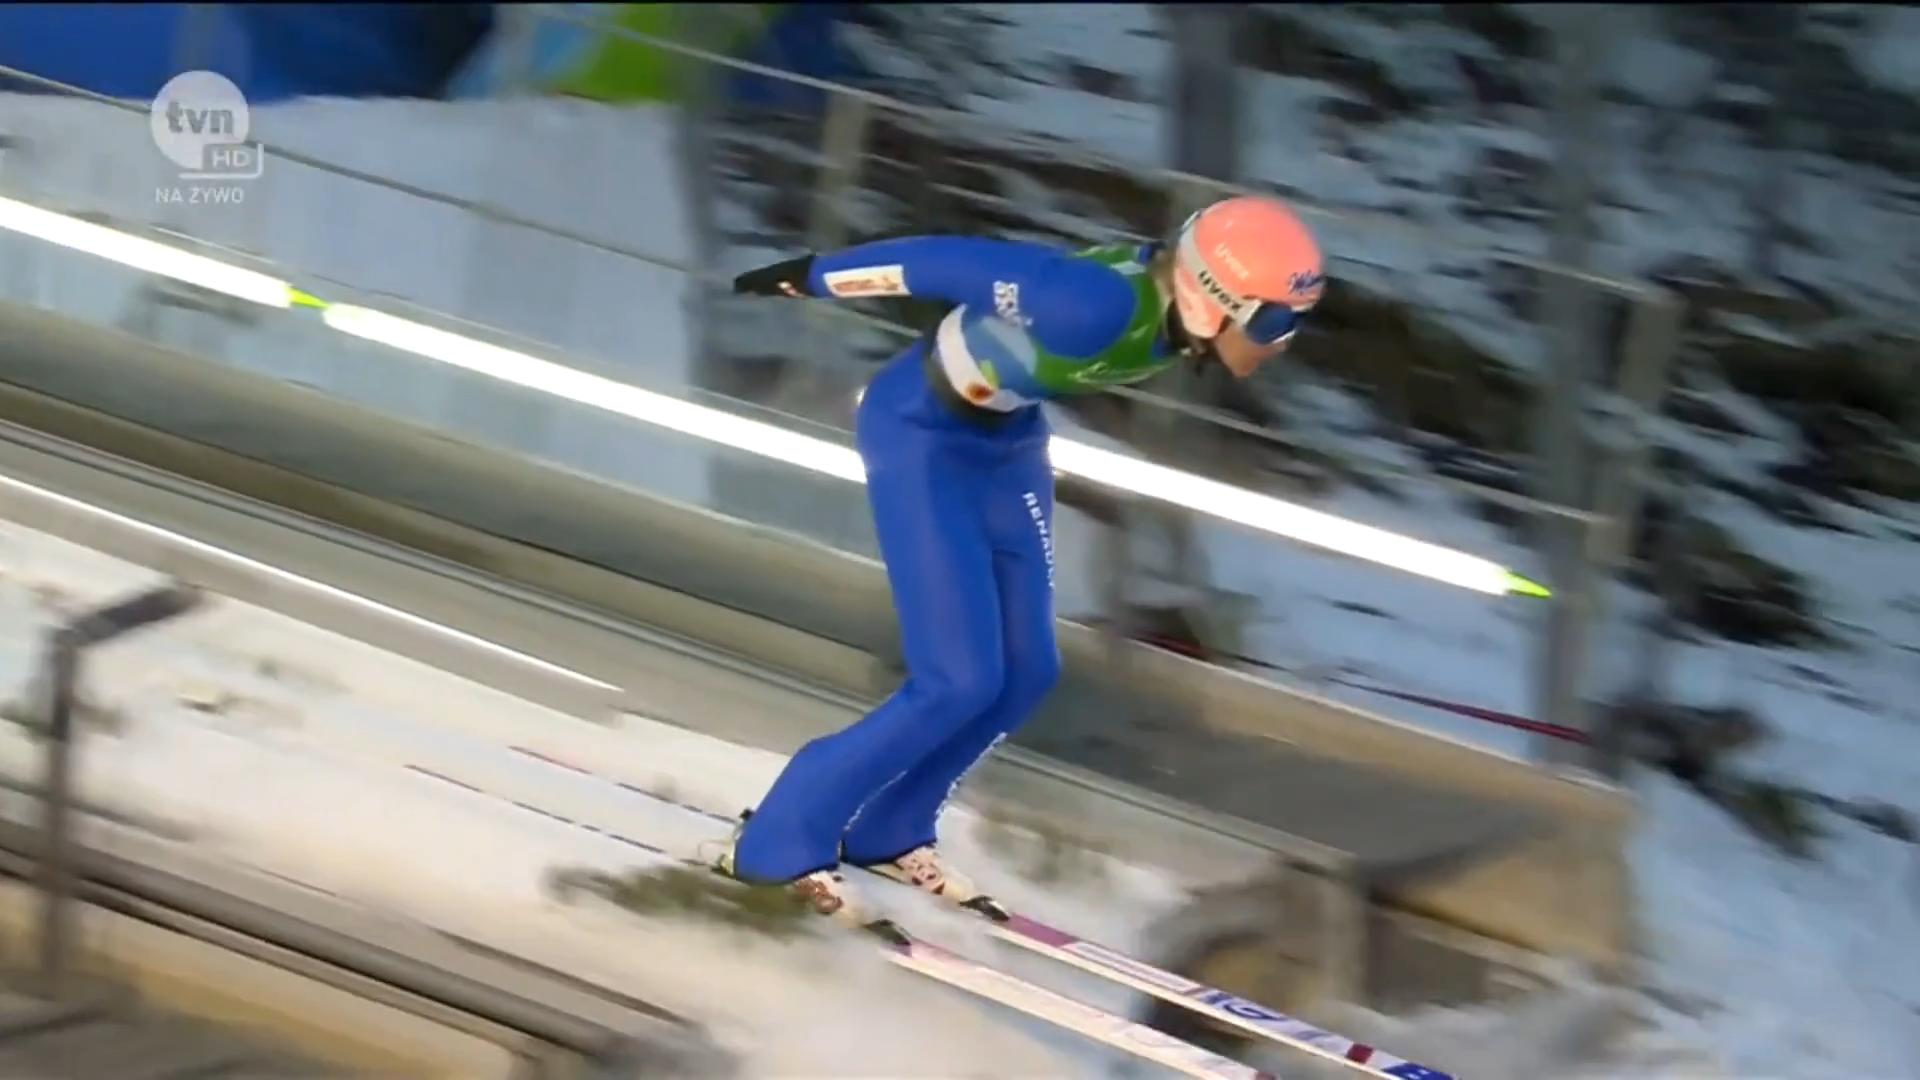prog: (1180, 819, 1553, 927)
